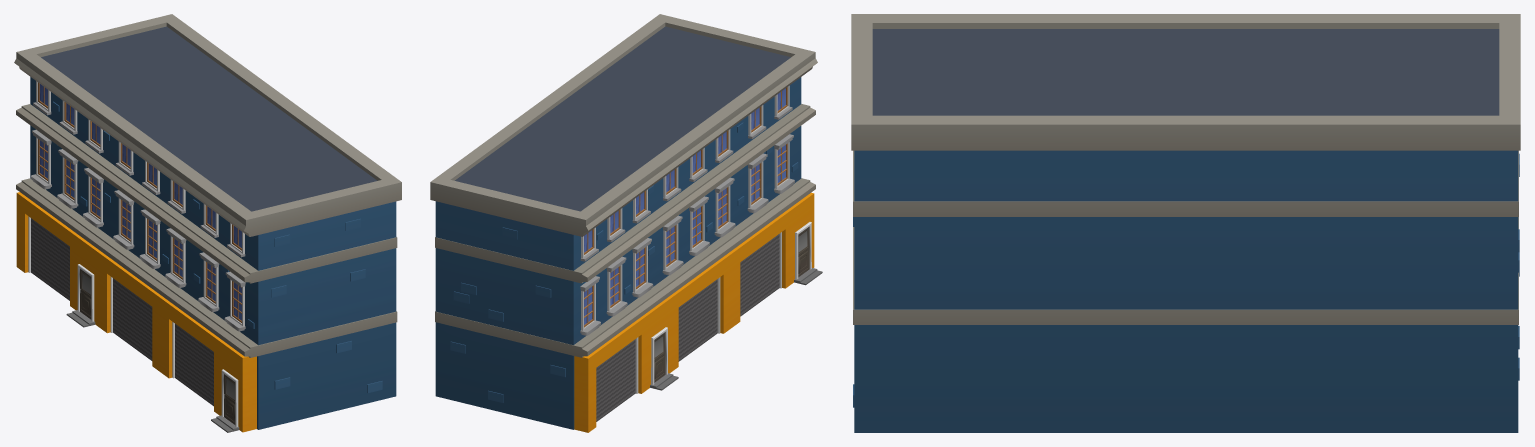
Rendered from Building_20_2_J.fbx.
The picture shows the model from 3 angles, left to right: view 1: azimuth 30°, elevation 25°; view 2: azimuth 150°, elevation 25°; view 3: azimuth 270°, elevation 25°; orthographic projection. The views are drawn at different scales.
Parts seen in each view (by area): view 1: Building_20_2_J; view 2: Building_20_2_J; view 3: Building_20_2_J.
Boxes of the visible parts, left/top/right/bottom form: Building_20_2_J: left=14, top=14, right=401, bottom=432; Building_20_2_J: left=430, top=14, right=822, bottom=432; Building_20_2_J: left=851, top=14, right=1520, bottom=432.
Size of the model in its own units: 774 by 938 by 1827.
